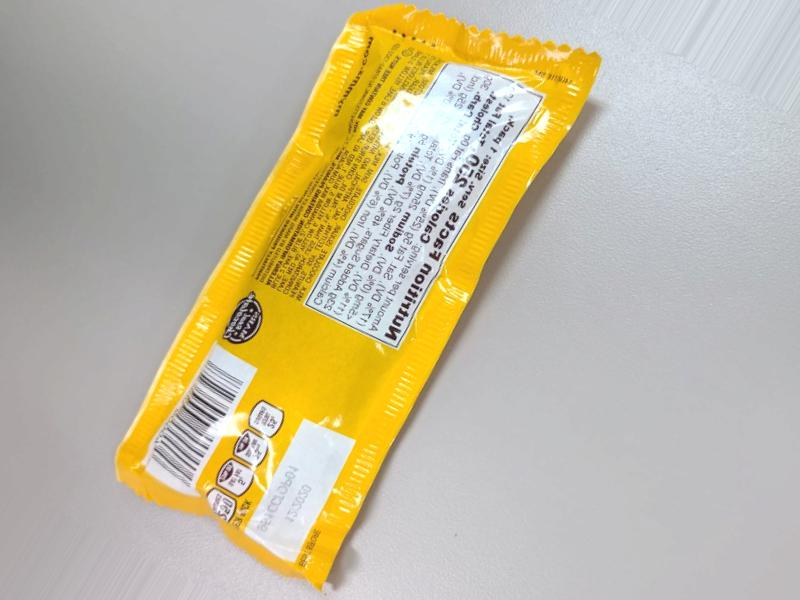m&m: (199, 0, 543, 600)
